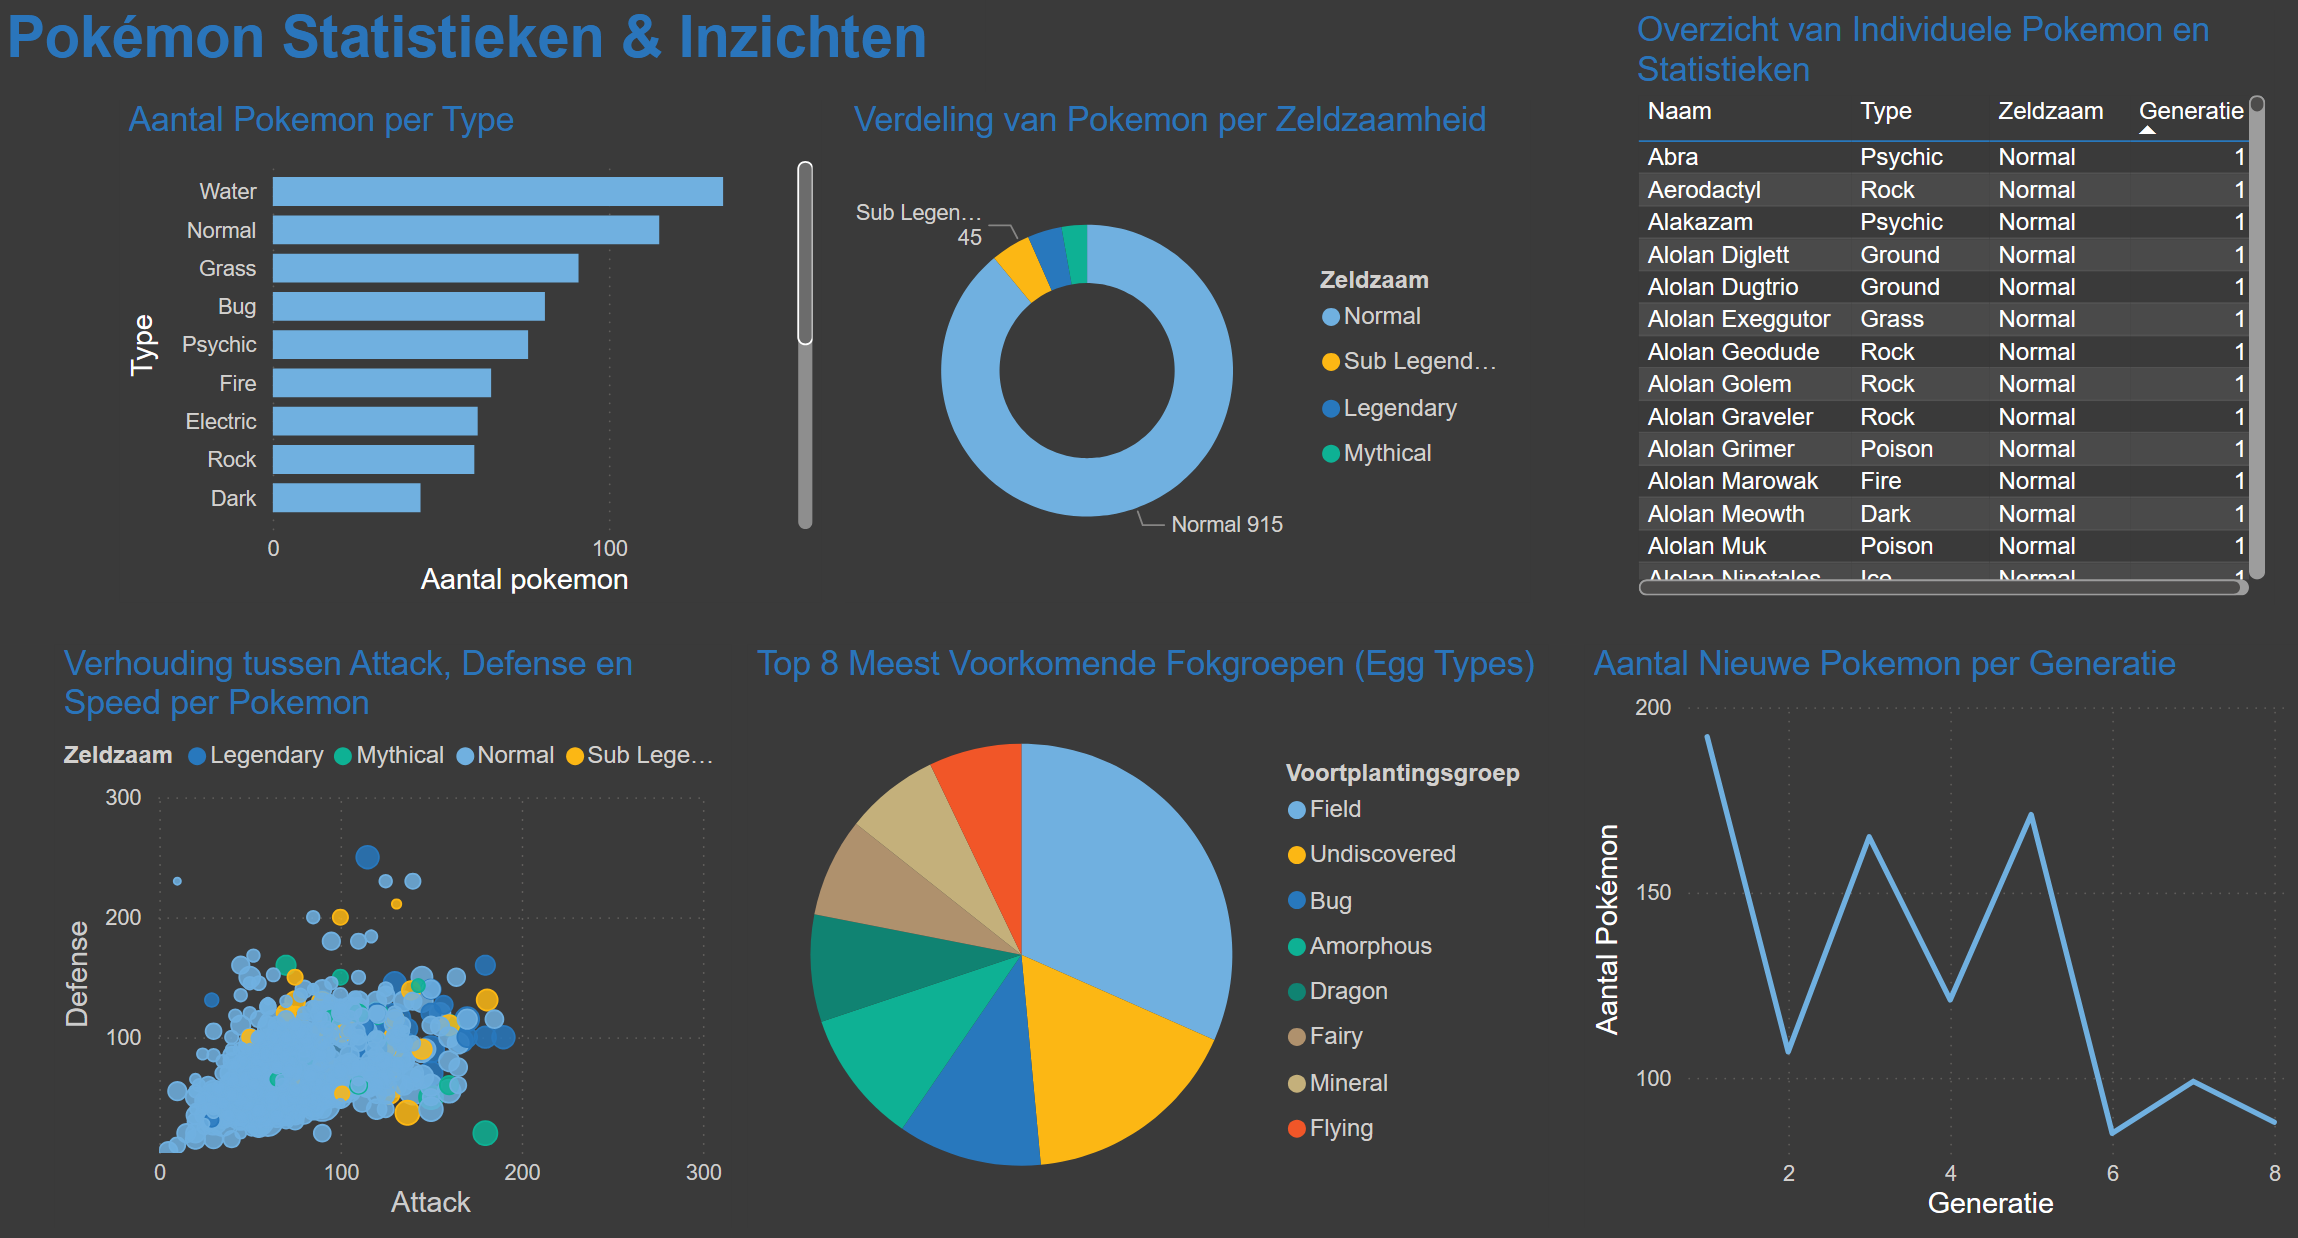

Layout of this report page (visuals, bound fields, positions):
{"tool":"powerbi","page":{"name":"Page 1","canvas":[1280,720],"ordinal":0},"visuals":[{"type":"barChart","title":"Aantal Pokemon per Type","fields":{"Category":["Pokedex.type_1"],"Y":["CountNonNull(Pokedex.name)"]},"box":[68.3,57.5,389.2,279.2],"z":0},{"type":"donutChart","title":"Verdeling van Pokemon per Zeldzaamheid","fields":{"Category":["Pokedex.status"],"Y":["Count(Pokedex.name)"]},"box":[470.8,57.7,381.5,279.2],"z":1000},{"type":"scatterChart","title":"Verhouding tussen Attack, Defense en Speed per Pokemon","fields":{"X":["Pokedex.attack"],"Y":["Pokedex.defense"],"Series":["Pokedex.status"],"Size":["Sum(Pokedex.speed)"]},"box":[31.5,360,376.2,323.8],"z":2000},{"type":"lineChart","title":"Aantal Nieuwe Pokemon per Generatie","fields":{"Category":["Pokedex.generation"],"Y":["CountNonNull(Pokedex.name)"]},"box":[881.5,360,398.5,323.8],"z":3000},{"type":"tableEx","title":" Overzicht van Individuele Pokemon en Statistieken","fields":{"Values":["Pokedex.name","Pokedex.type_1","Pokedex.status","Pokedex.generation"]},"box":[905.8,8.3,359.2,329.2],"z":4000},{"type":"pieChart","title":"Top 8 Meest Voorkomende Fokgroepen (Egg Types)","fields":{"Category":["Pokedex.egg_type_1"],"Y":["CountNonNull(Pokedex.name)"]},"box":[416.9,360,445.4,323.8],"z":5000},{"type":"textbox","box":[0,0,549.2,52.5],"z":6000}]}

Visuals, with their boxes on the page's 1280x720 design canvas (x1, y1, x2, y2). These are canvas units, not pixel positions in the 2298x1238 screenshot, which may show the page scaled, cropped or inside an application window:
"Aantal Pokemon per Type" barChart: pyautogui.locateOnScreen(68, 58, 458, 337)
"Verdeling van Pokemon per Zeldzaamheid" donutChart: pyautogui.locateOnScreen(471, 58, 852, 337)
"Verhouding tussen Attack, Defense en Speed per Pokemon" scatterChart: pyautogui.locateOnScreen(32, 360, 408, 684)
"Aantal Nieuwe Pokemon per Generatie" lineChart: pyautogui.locateOnScreen(882, 360, 1280, 684)
" Overzicht van Individuele Pokemon en Statistieken" tableEx: pyautogui.locateOnScreen(906, 8, 1265, 338)
"Top 8 Meest Voorkomende Fokgroepen (Egg Types)" pieChart: pyautogui.locateOnScreen(417, 360, 862, 684)
textbox: pyautogui.locateOnScreen(0, 0, 549, 52)
